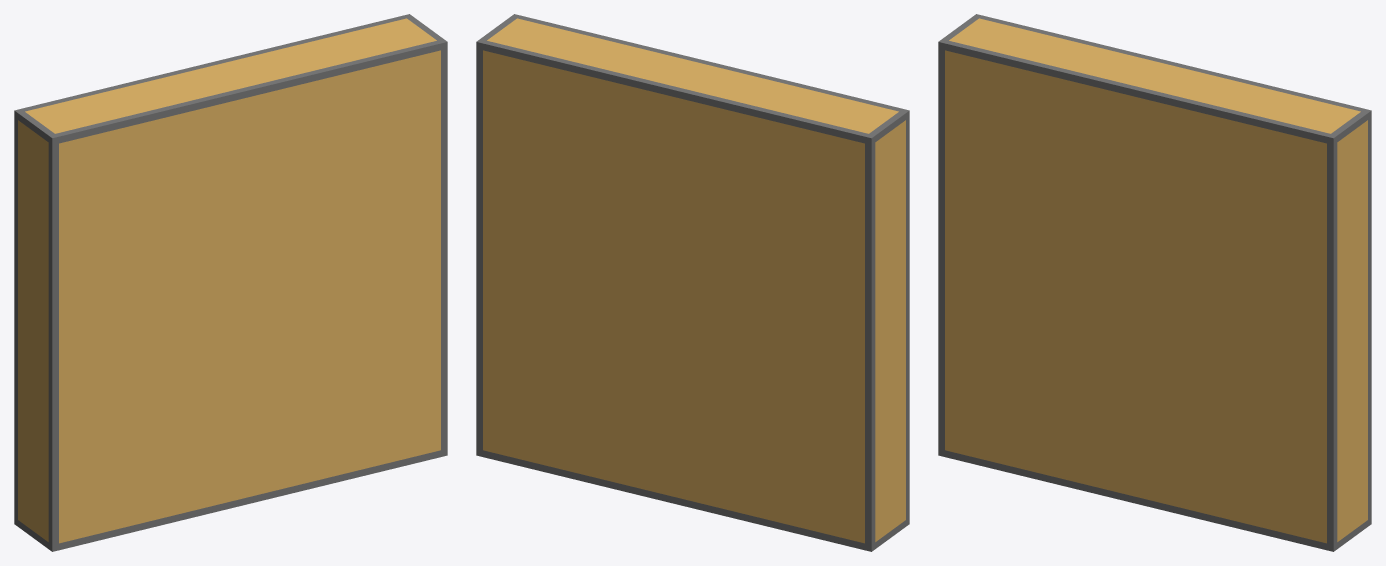
File: house_wall.fbx
3 renders of one model, left to right at view 1: azimuth 30°, elevation 25°; view 2: azimuth 150°, elevation 25°; view 3: azimuth 330°, elevation 25°, orthographic.
Visible parts, largest first — view 1: house_wall.002; view 2: house_wall.002; view 3: house_wall.002.
Part boxes in pixels (x1,y1,x2,y2): house_wall.002: (14,14,447,551); house_wall.002: (476,14,909,551); house_wall.002: (938,14,1371,551).
Bounding box in the file's own units: 3 × 3 × 0.5.
